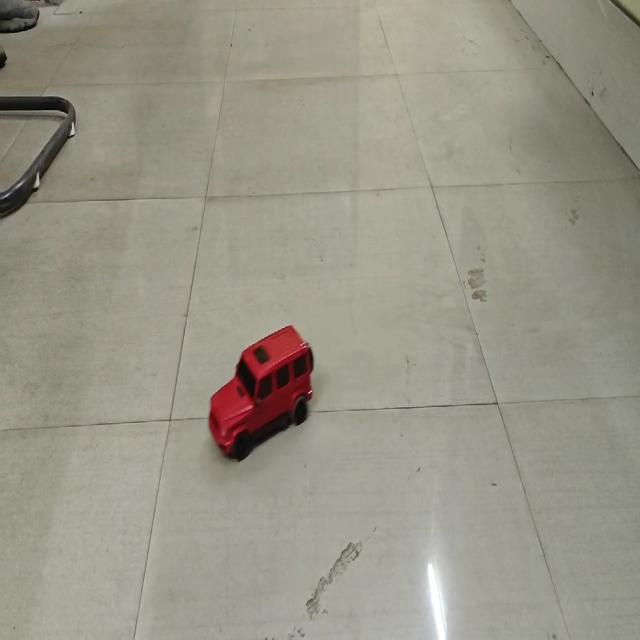light_vehicle: (210, 321, 312, 460)
